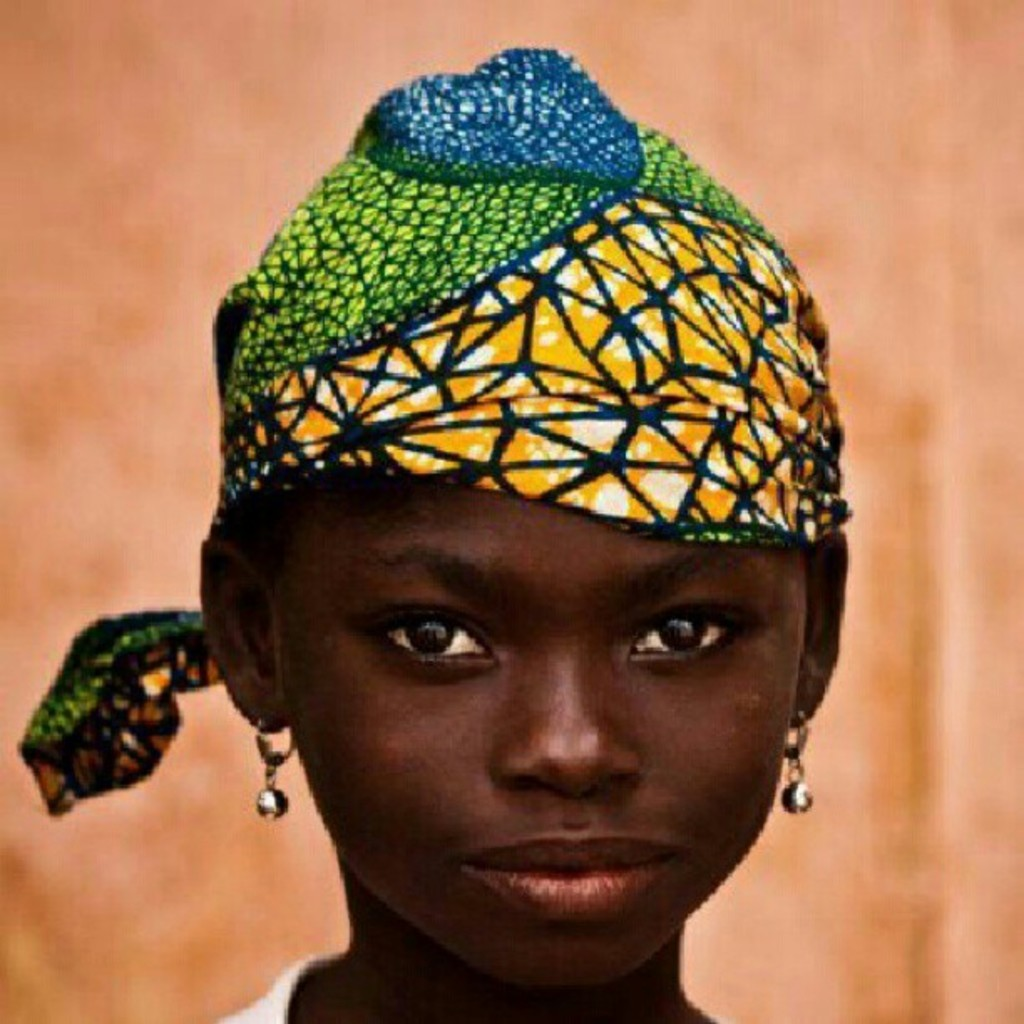Person: (15, 46, 853, 1024)
